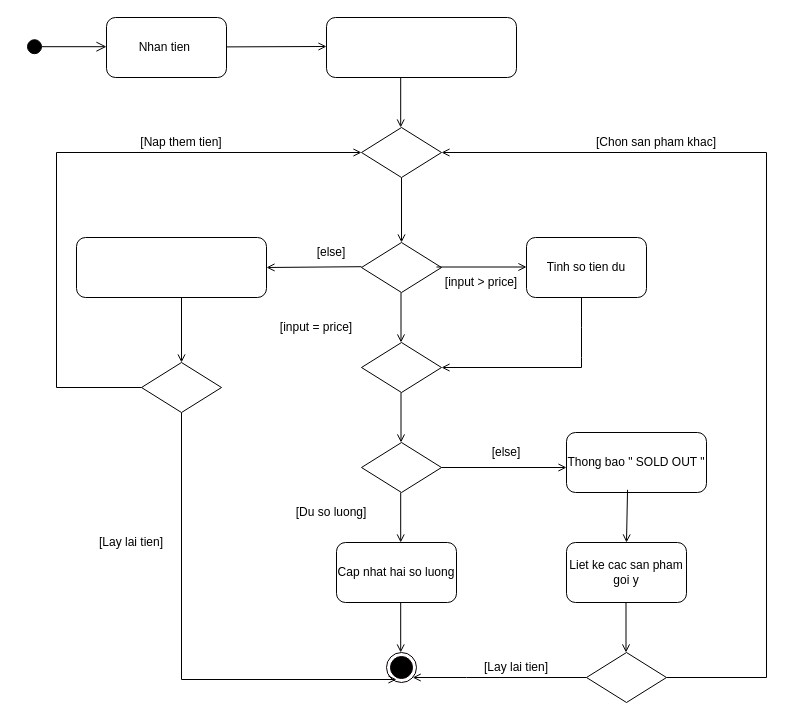
The diagram is 792 pixels wide and 720 high, and some of its shapes have lost their labels. The shapes that lost their labels are listed below. From the top down, each one's centre as x and y in pixels, then its label:
the point at 421,47: Nhan thong tin san pham
the point at 171,267: Thong bao khong du tien
